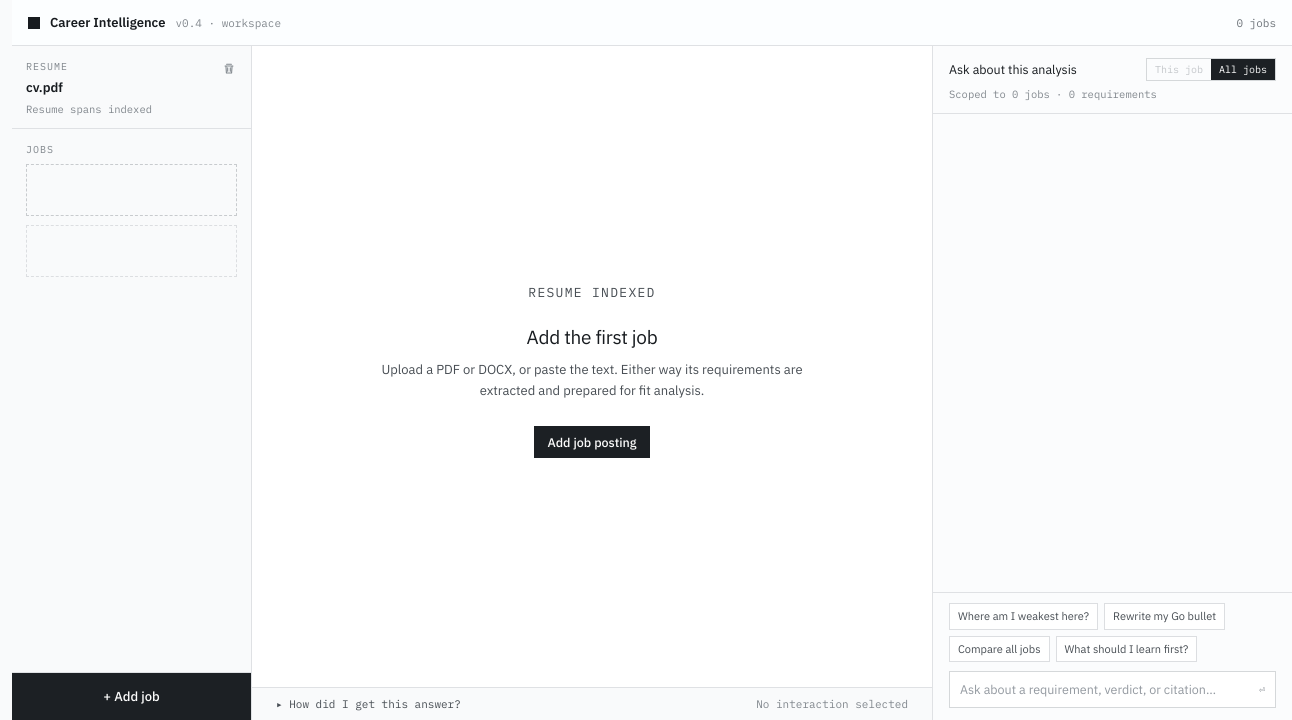
Test: deleting documents › reports a deletion failure without removing the document
This screenshot has width=1292, height=720.
Click the button named "Delete resume cv.pdf" at x=229, y=69, box top-left (216, 56), bottom-right (242, 82)
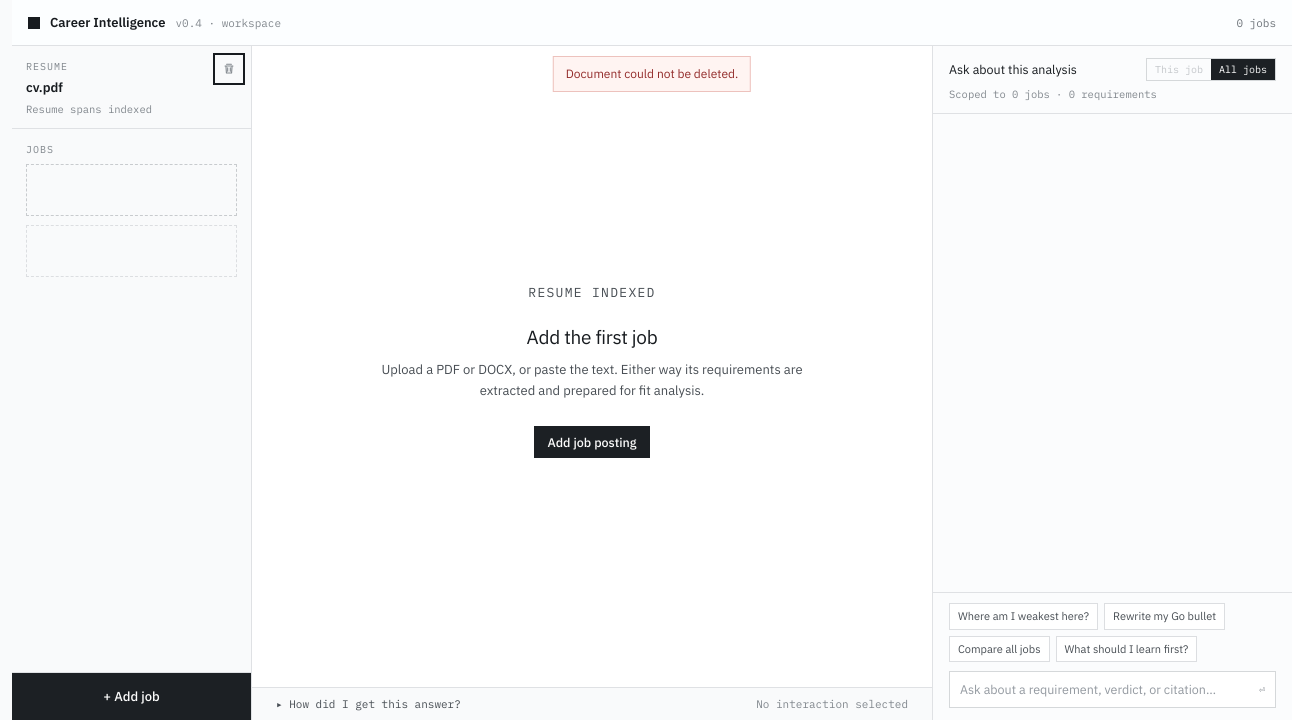
Check: the text "cv.pdf" is shown, box top-left (26, 79), bottom-right (63, 96)
Check: the message reads "Document could not be deleted.", box top-left (566, 66), bottom-right (738, 81)
